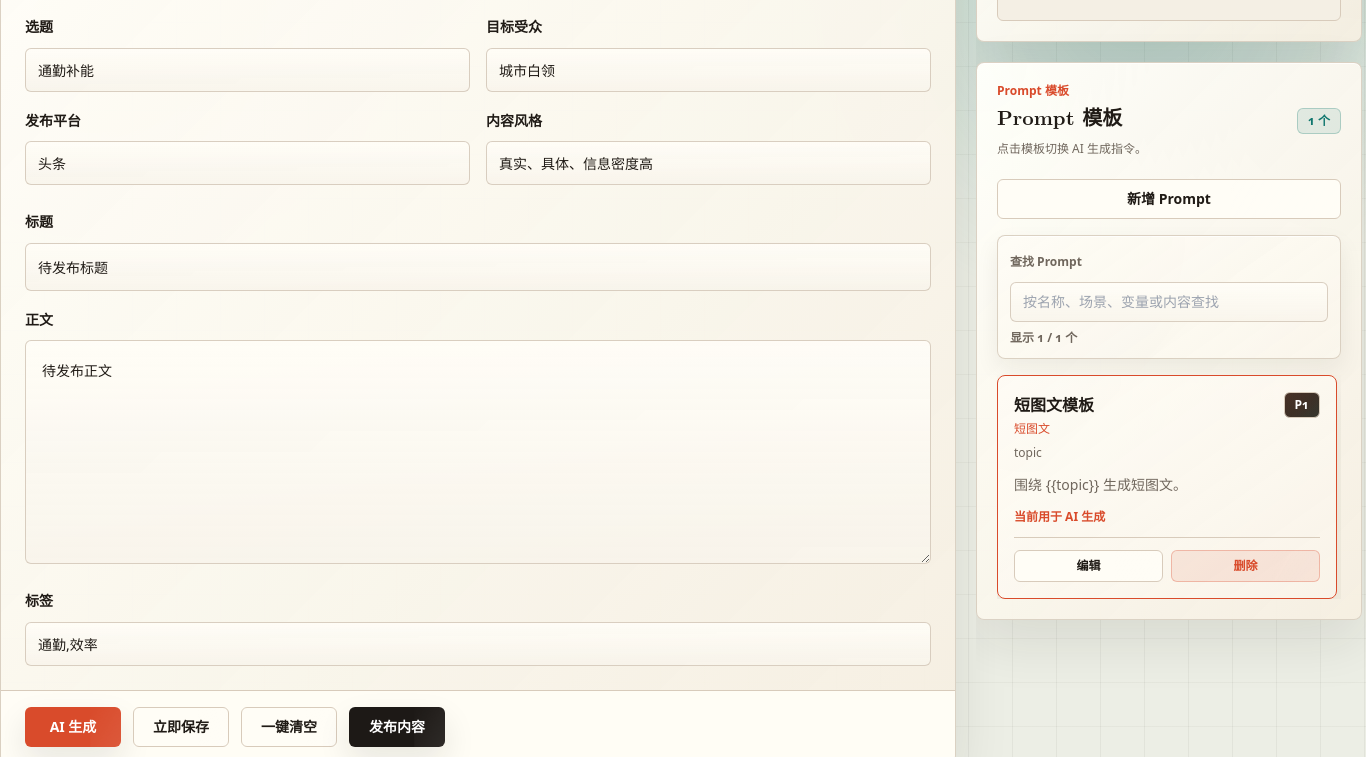
Test: creation studio › clears the composer after a successful new publish
(page scrolled)
Click the button "发布内容": point(397, 727) x1=349 y1=707 x2=445 y2=747
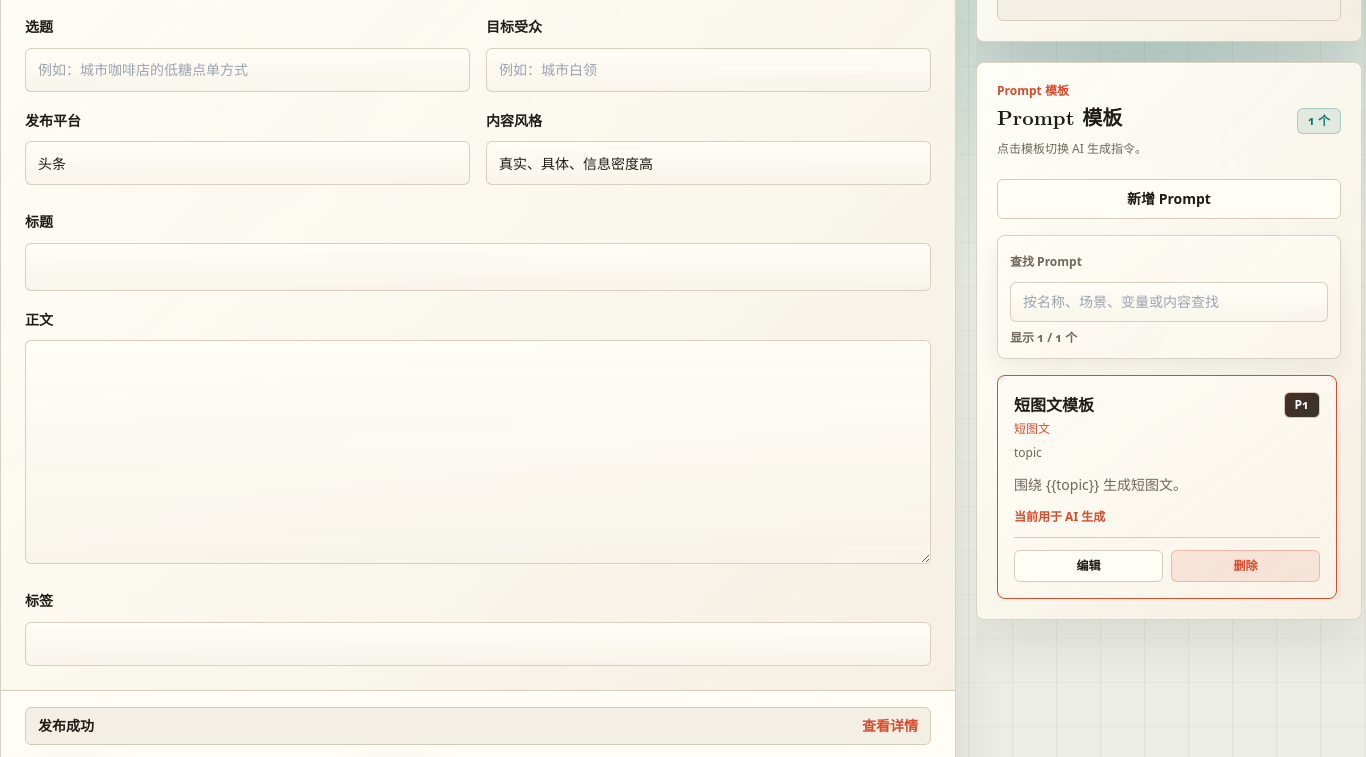
Check: the text "发布成功" is shown, box x1=38 y1=716 x2=94 y2=736
Check: the field labelled "选题" is empty, box x1=25 y1=48 x2=470 y2=92
Check: the field labelled "目标受众" is empty, box x1=486 y1=48 x2=931 y2=92
